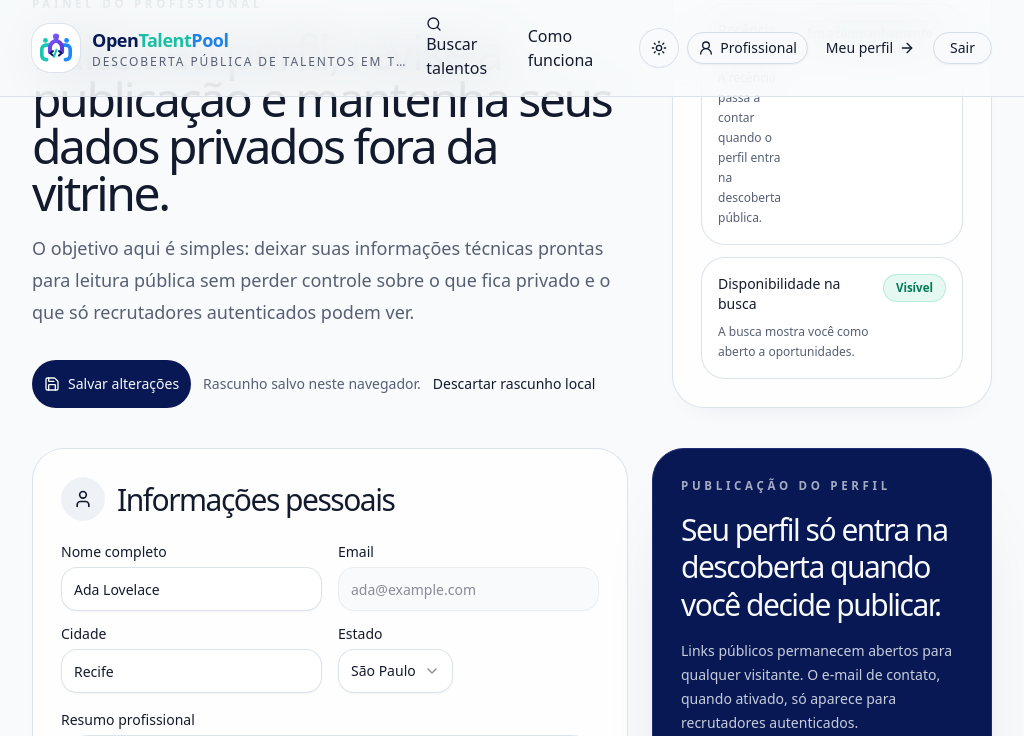
Test case: Dashboard › descarta o rascunho local e restaura o último estado salvo no backend
This screenshot has width=1024, height=736.
(page scrolled)
expect the field showing "Recife" is shown: met, box [61, 649, 322, 693]
Click the button "Descartar rascunho local" at (514, 384), box [433, 374, 595, 394]
(page scrolled)
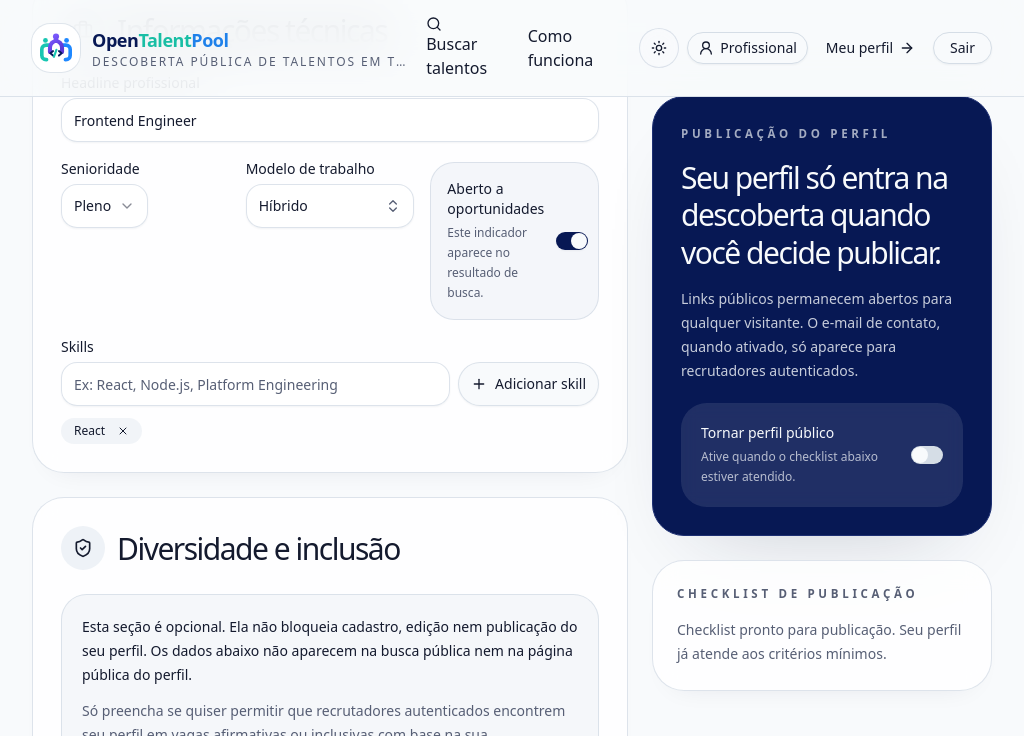
expect the field with placeholder "Ex: React, Node.js, Platform Engineering" is empty: met, box [61, 362, 450, 406]
expect the text "Rascunho salvo neste navegador" is gone: met
